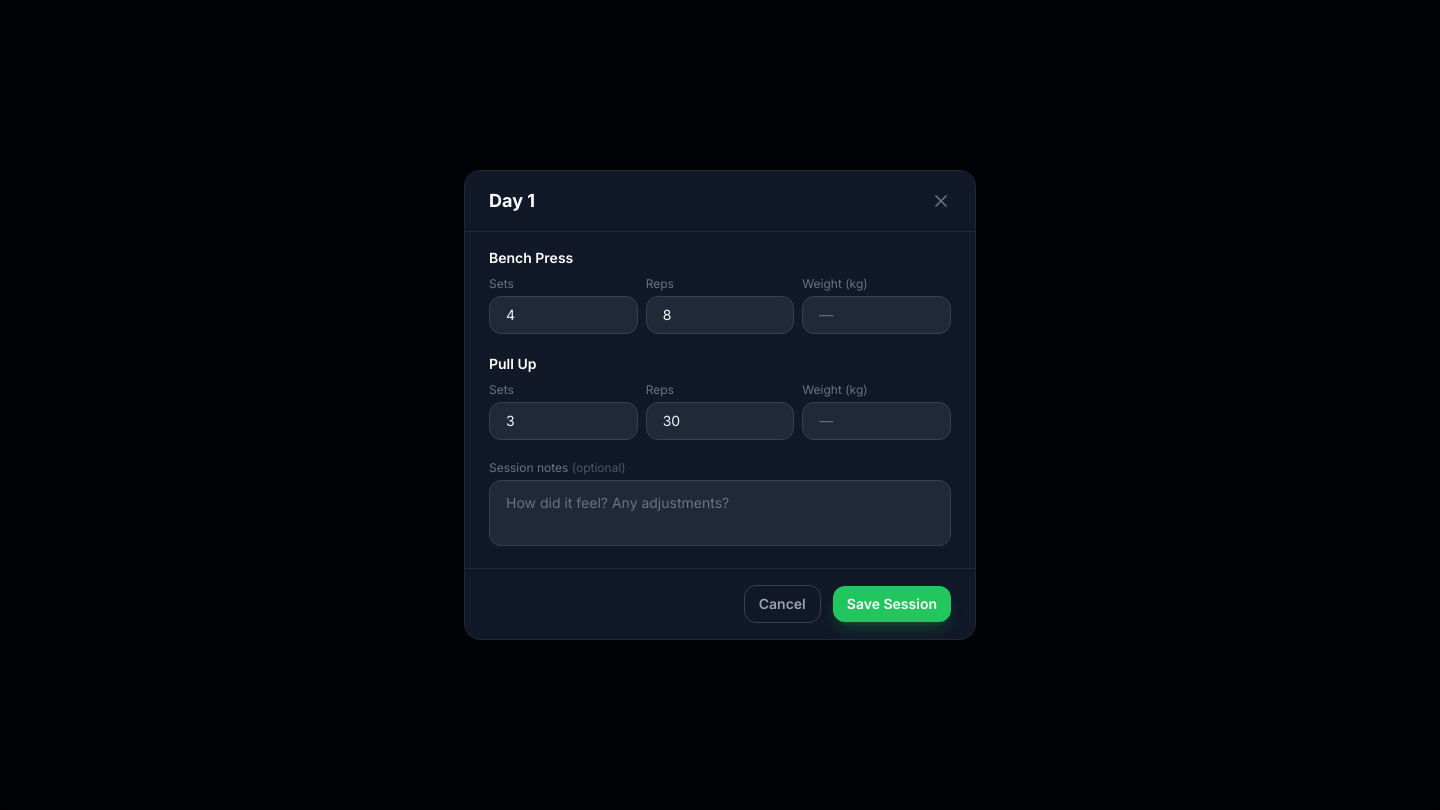
Scenario: LogWorkoutModal › refuses to save when a required number has been cleared
The image size is (1440, 810).
Clear the number field named "Sets completed for Bench Press" at (563, 315), box left=489, top=296, right=638, bottom=334
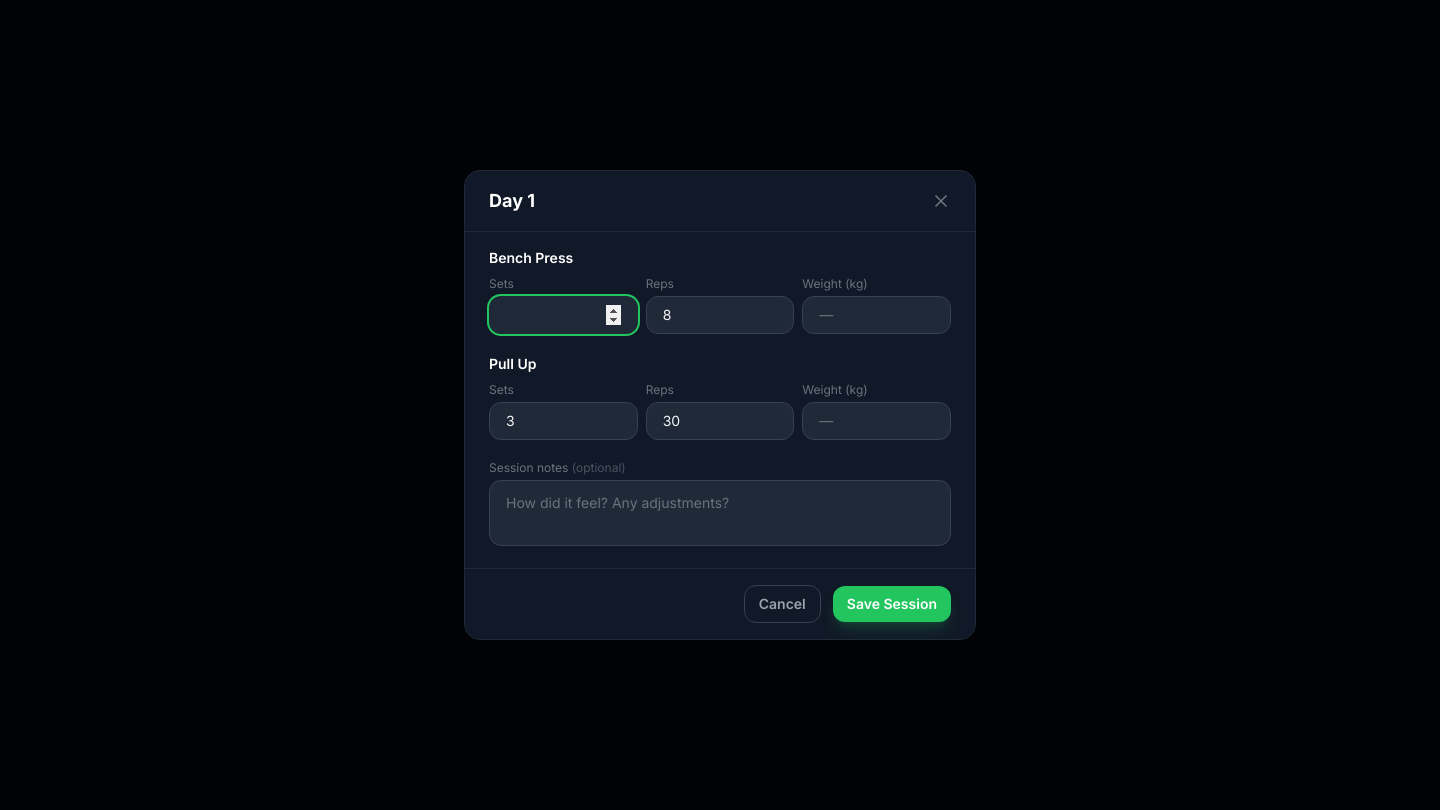
Click the button "Save Session" at (892, 604), box left=833, top=586, right=951, bottom=622
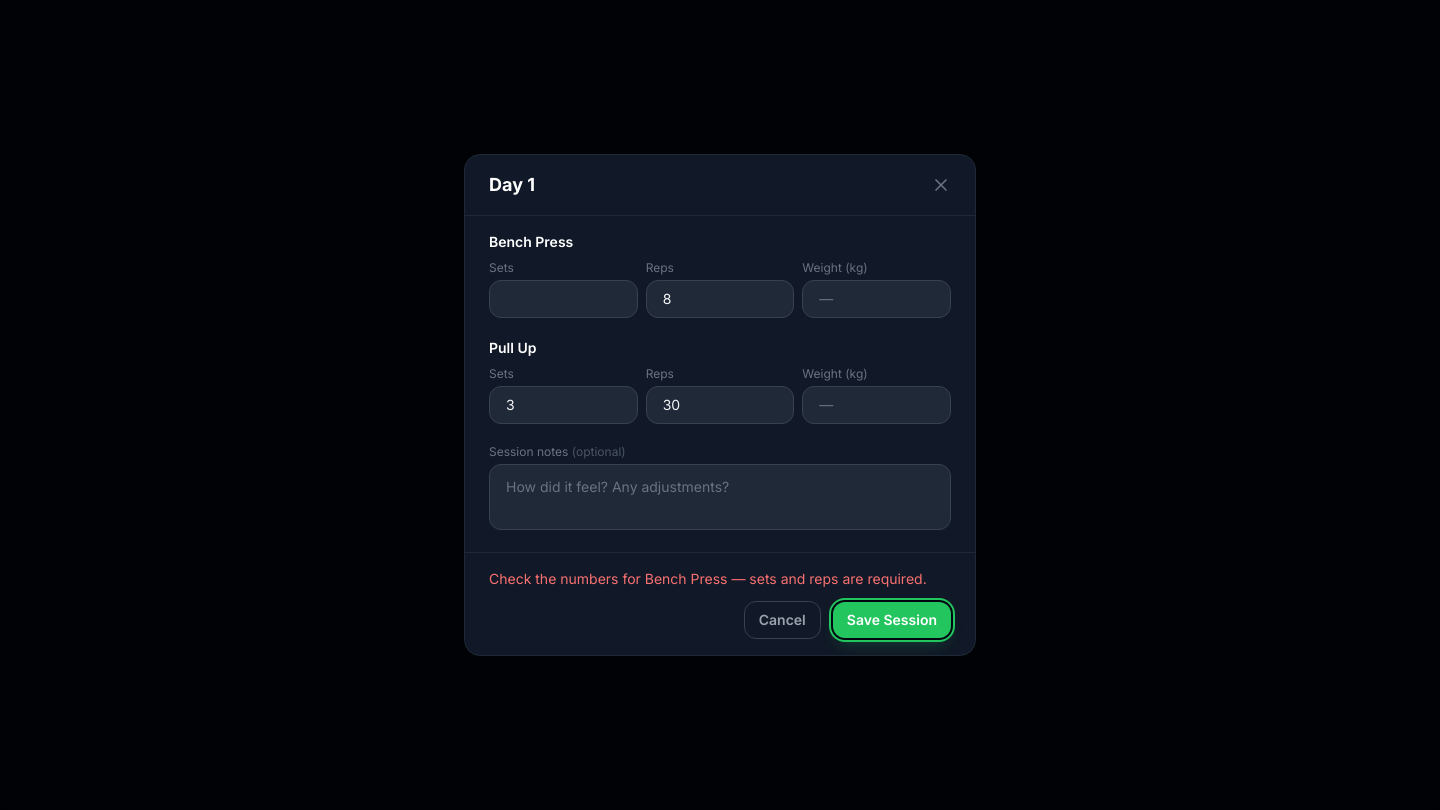
Check: the message shows "Bench Press", box left=489, top=570, right=927, bottom=587
